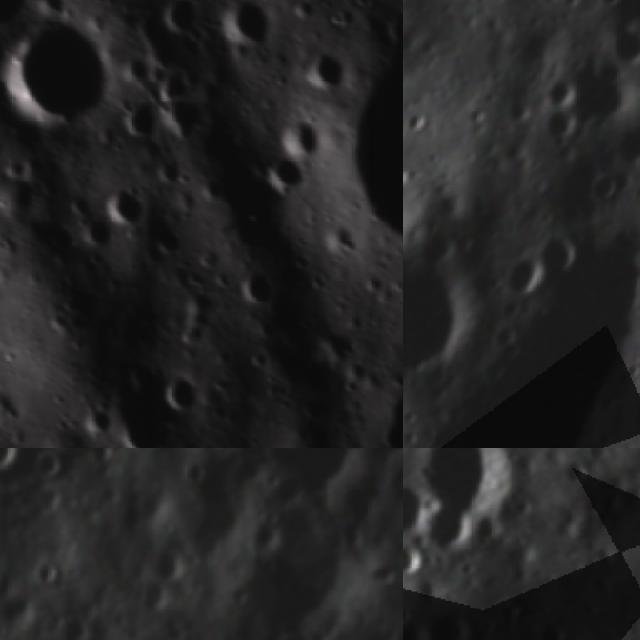crater: (329, 1, 403, 287), (403, 227, 503, 409), (248, 496, 361, 640), (0, 27, 119, 121), (541, 42, 640, 153), (407, 448, 526, 522), (91, 369, 163, 448), (520, 220, 594, 292), (485, 243, 556, 315), (358, 339, 403, 448), (414, 496, 480, 558), (588, 11, 640, 83), (289, 35, 346, 93), (231, 262, 293, 315), (416, 593, 484, 640), (576, 162, 629, 215), (220, 0, 269, 57), (530, 103, 581, 154), (602, 119, 640, 185), (462, 502, 510, 552), (95, 182, 148, 225), (151, 369, 197, 418), (265, 149, 309, 200), (403, 471, 437, 537), (162, 0, 213, 41), (141, 534, 182, 585), (150, 219, 193, 261), (553, 448, 596, 490), (75, 210, 120, 250), (0, 171, 37, 217), (175, 449, 218, 487), (248, 513, 285, 557), (119, 103, 156, 142), (403, 531, 432, 580), (29, 448, 72, 481), (0, 0, 37, 34), (621, 381, 640, 447), (533, 611, 574, 640), (34, 556, 67, 590), (79, 448, 125, 469), (0, 448, 28, 475), (0, 126, 9, 172)
